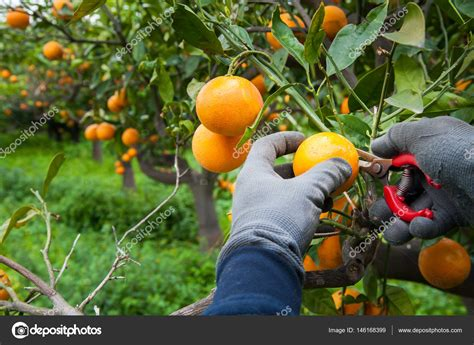orange: (292, 130, 360, 195), (193, 74, 266, 128), (186, 122, 255, 175), (419, 235, 470, 290), (8, 7, 33, 29), (40, 41, 65, 62), (95, 121, 113, 142)
